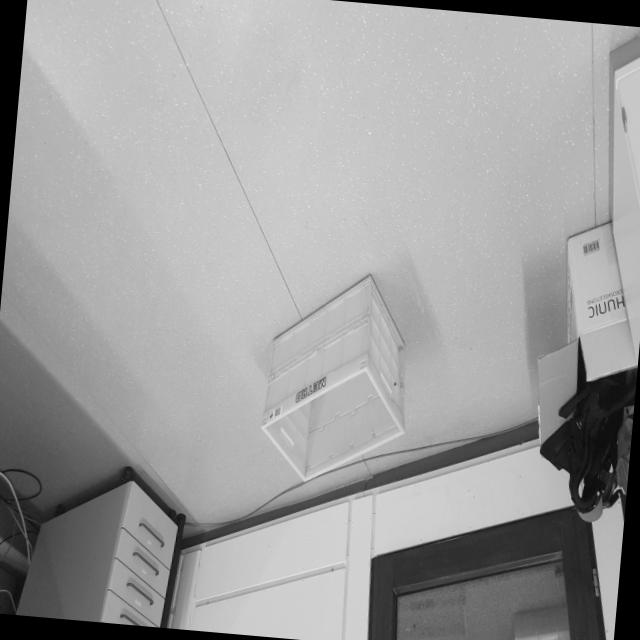box: (255, 264, 418, 491)
